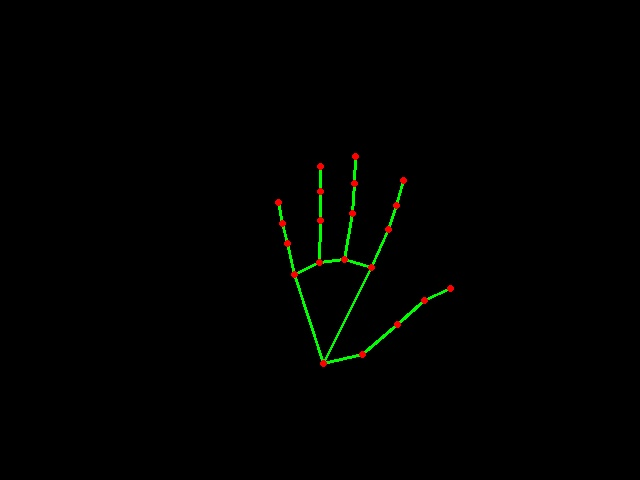stop: (260, 141, 465, 372)
